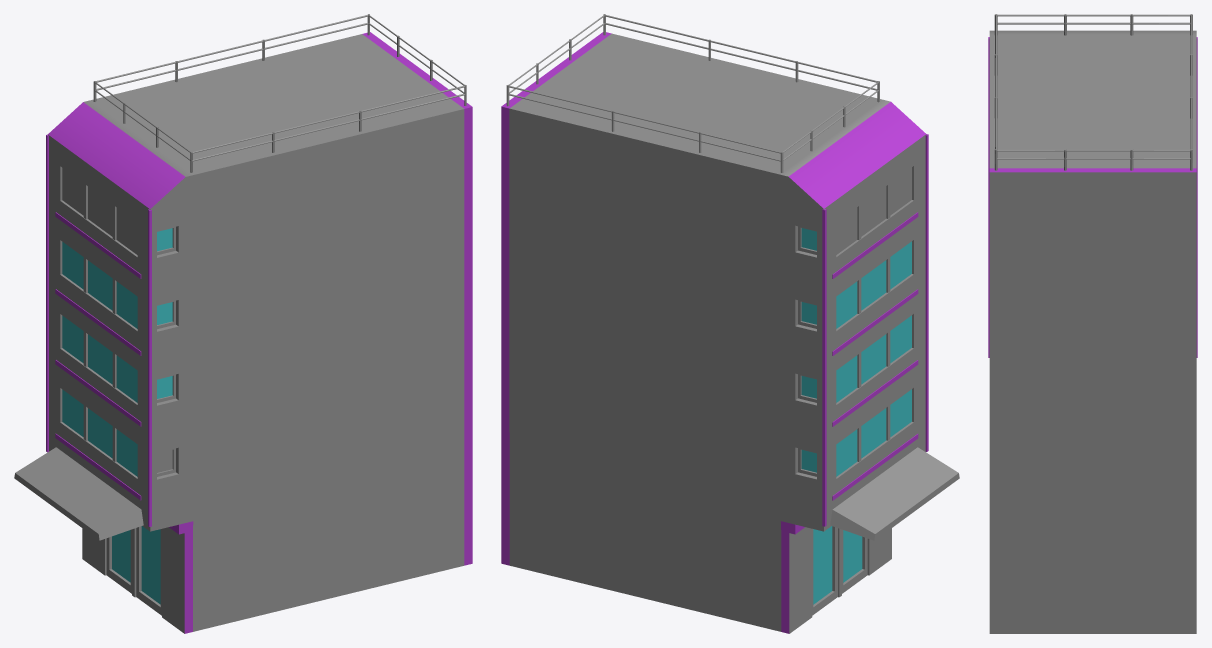
File: buildings_S_05_VAR3.fbx
3 views of the same model, side by side, from view 1: azimuth 30°, elevation 25°; view 2: azimuth 150°, elevation 25°; view 3: azimuth 270°, elevation 25° (orthographic).
Visible parts, largest first — view 1: buildings_S_05_VAR3; view 2: buildings_S_05_VAR3; view 3: buildings_S_05_VAR3.
Part boxes in pixels (box(x1,y1,x2,y2)): buildings_S_05_VAR3: box(14, 14, 472, 633); buildings_S_05_VAR3: box(501, 14, 959, 633); buildings_S_05_VAR3: box(988, 14, 1197, 633).
Size of the model in its own units: 12.09 by 15.12 by 5.95.
